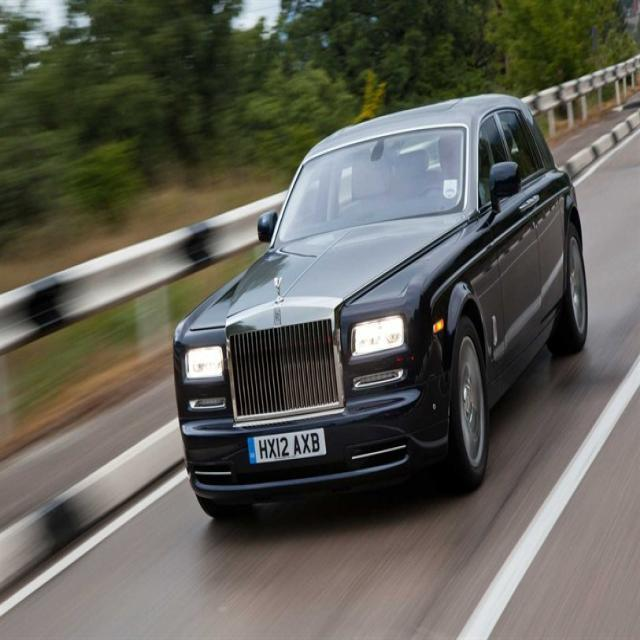car: (178, 96, 597, 502)
